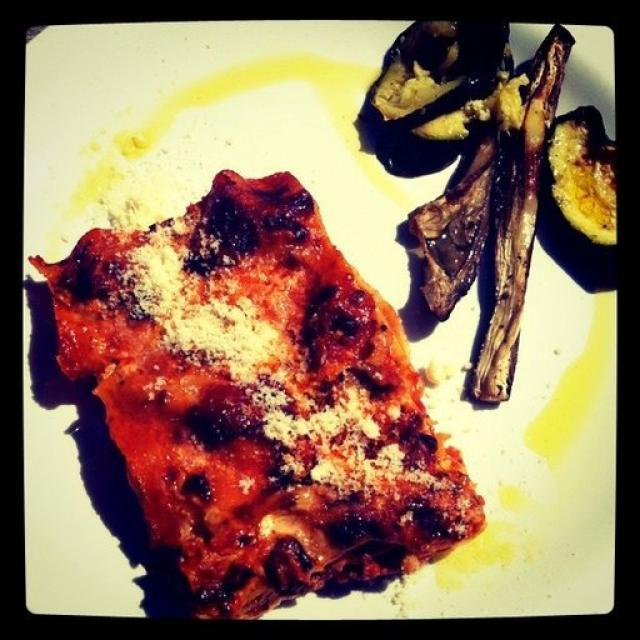Lasagna: (34, 179, 452, 601)
